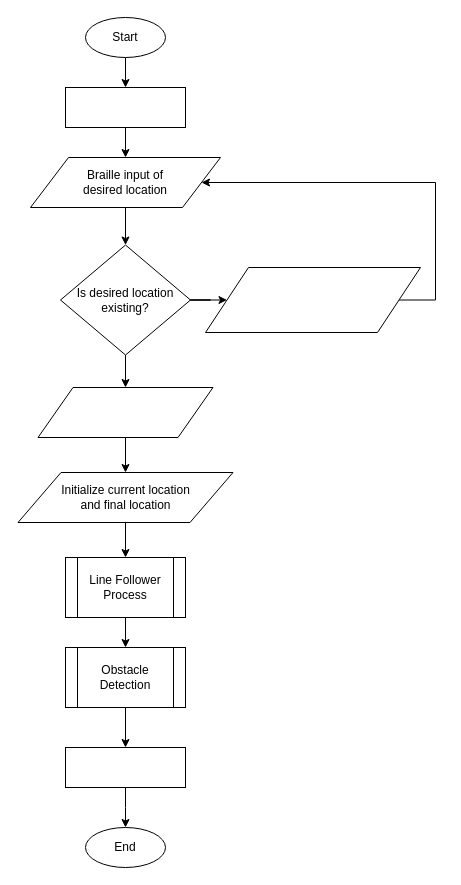
Image size: 461x885. Some labels were removed from this diagram. The shapes that lost their labels are listed below. From the top down, each one's centre as x and y in pixels, then its label:
(125,107): Start Button
(312,299): Output Voice: "Room not existing. Try again"
(125,412): Voice output of the desired location
(125,767): Arrived at final location
